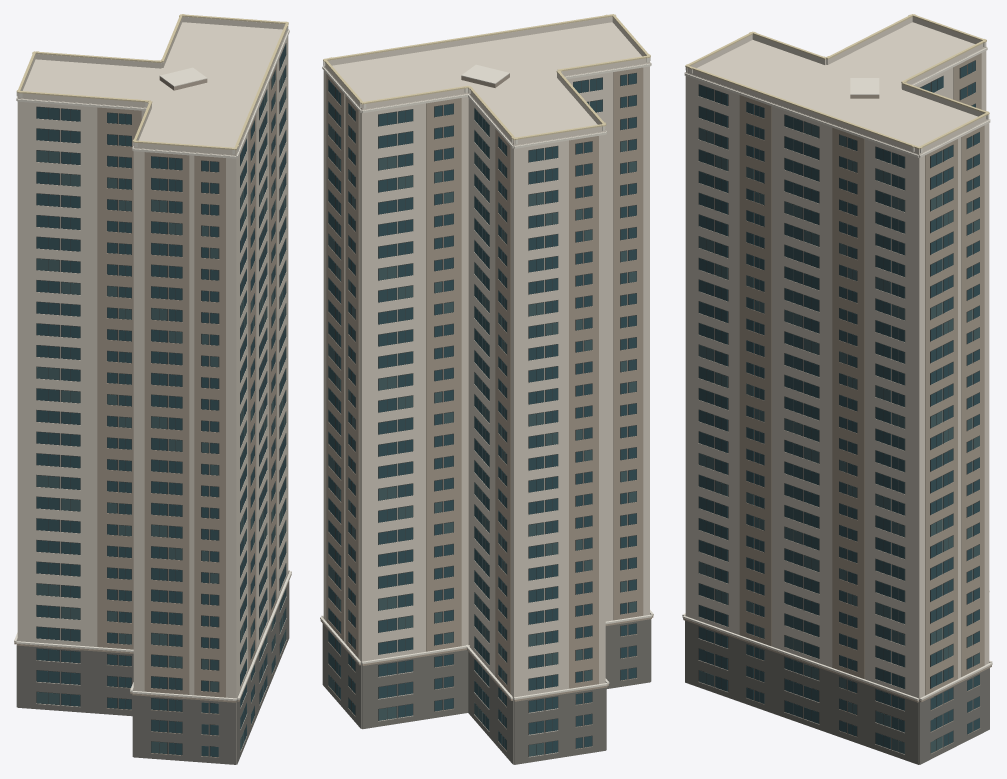
The model's file is bespoke-raemian-prestige-110.glb.
The picture shows the model from 3 angles, left to right: view 1: azimuth 30°, elevation 25°; view 2: azimuth 150°, elevation 25°; view 3: azimuth 270°, elevation 25°; orthographic projection.
Visible parts, largest first — view 1: Prestige_warm_ivory_rendered_wall015, Prestige_wide_taupe_pilasters015, Prestige_recessed_blue_green_window015, Prestige_dark_bronze_thin_window_frame015, Prestige_dark_brown_grey_stone_base015, Prestige_muted_green_window_pair015, Prestige_pale_limestone_band015, Prestige_cream_gold_crown_coping015; view 2: Prestige_warm_ivory_rendered_wall015, Prestige_wide_taupe_pilasters015, Prestige_recessed_blue_green_window015, Prestige_dark_bronze_thin_window_frame015, Prestige_dark_brown_grey_stone_base015, Prestige_muted_green_window_pair015, Prestige_pale_limestone_band015, Prestige_cream_gold_crown_coping015; view 3: Prestige_warm_ivory_rendered_wall015, Prestige_wide_taupe_pilasters015, Prestige_recessed_blue_green_window015, Prestige_dark_bronze_thin_window_frame015, Prestige_dark_brown_grey_stone_base015, Prestige_muted_green_window_pair015, Prestige_pale_limestone_band015, Prestige_cream_gold_crown_coping015.
Boxes of the visible parts, x1,y1,x2,y2 form: Prestige_warm_ivory_rendered_wall015: [17, 16, 288, 763]; Prestige_wide_taupe_pilasters015: [14, 63, 291, 757]; Prestige_recessed_blue_green_window015: [36, 44, 286, 756]; Prestige_dark_bronze_thin_window_frame015: [36, 43, 286, 756]; Prestige_dark_brown_grey_stone_base015: [16, 573, 289, 764]; Prestige_muted_green_window_pair015: [36, 73, 286, 753]; Prestige_pale_limestone_band015: [14, 27, 291, 700]; Prestige_cream_gold_crown_coping015: [16, 14, 288, 150]; Prestige_warm_ivory_rendered_wall015: [323, 16, 649, 757]; Prestige_wide_taupe_pilasters015: [320, 67, 653, 751]; Prestige_recessed_blue_green_window015: [328, 73, 636, 753]; Prestige_dark_bronze_thin_window_frame015: [328, 72, 636, 756]; Prestige_dark_brown_grey_stone_base015: [322, 619, 651, 764]; Prestige_muted_green_window_pair015: [328, 124, 636, 756]; Prestige_pale_limestone_band015: [320, 57, 653, 699]; Prestige_cream_gold_crown_coping015: [323, 14, 650, 140]; Prestige_warm_ivory_rendered_wall015: [685, 17, 989, 764]; Prestige_wide_taupe_pilasters015: [683, 53, 991, 754]; Prestige_recessed_blue_green_window015: [699, 61, 979, 749]; Prestige_dark_bronze_thin_window_frame015: [698, 60, 979, 754]; Prestige_dark_brown_grey_stone_base015: [685, 620, 989, 764]; Prestige_muted_green_window_pair015: [699, 122, 979, 753]; Prestige_pale_limestone_band015: [682, 42, 992, 700]; Prestige_cream_gold_crown_coping015: [685, 14, 989, 149].
Size of the model in its own units: 37.68 by 79.3 by 36.13.
